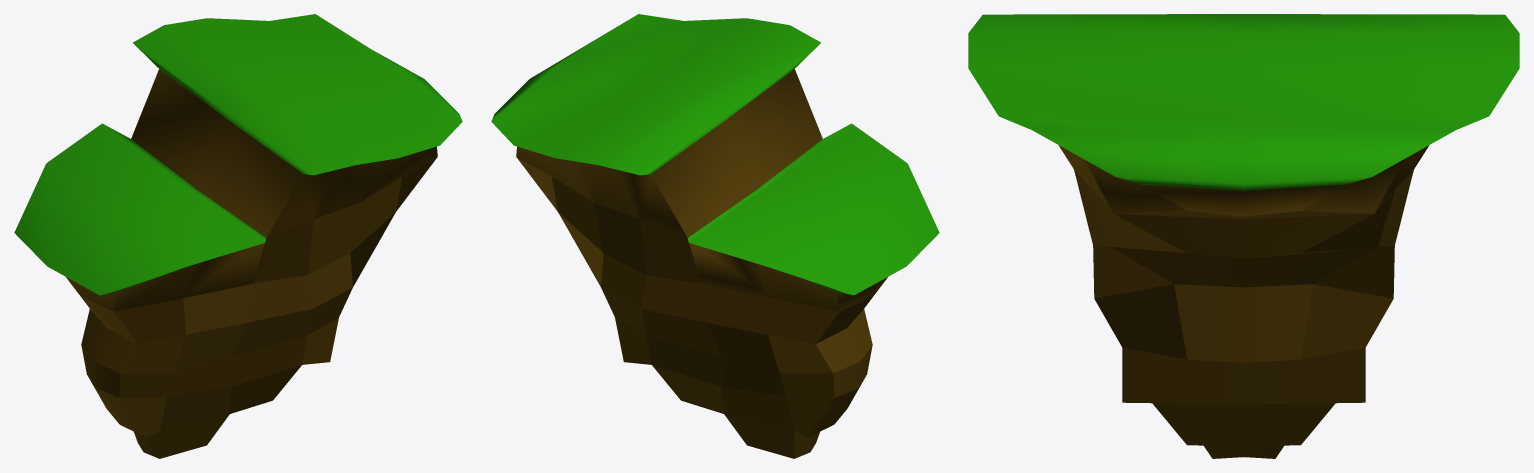
File: Platform_Breakable_FBX.fbx
3 renders of one model, left to right at view 1: azimuth 30°, elevation 25°; view 2: azimuth 150°, elevation 25°; view 3: azimuth 270°, elevation 25°, orthographic. The views are drawn at different scales.
Visible parts, largest first — view 1: Earth_Breakable; view 2: Earth_Breakable; view 3: Earth_Breakable.
Part boxes in pixels (x1,y1,x2,y2): Earth_Breakable: (14, 14, 462, 458); Earth_Breakable: (491, 14, 939, 458); Earth_Breakable: (968, 14, 1519, 458).
Size of the model in its own units: 3.3 by 2.75 by 2.9.
